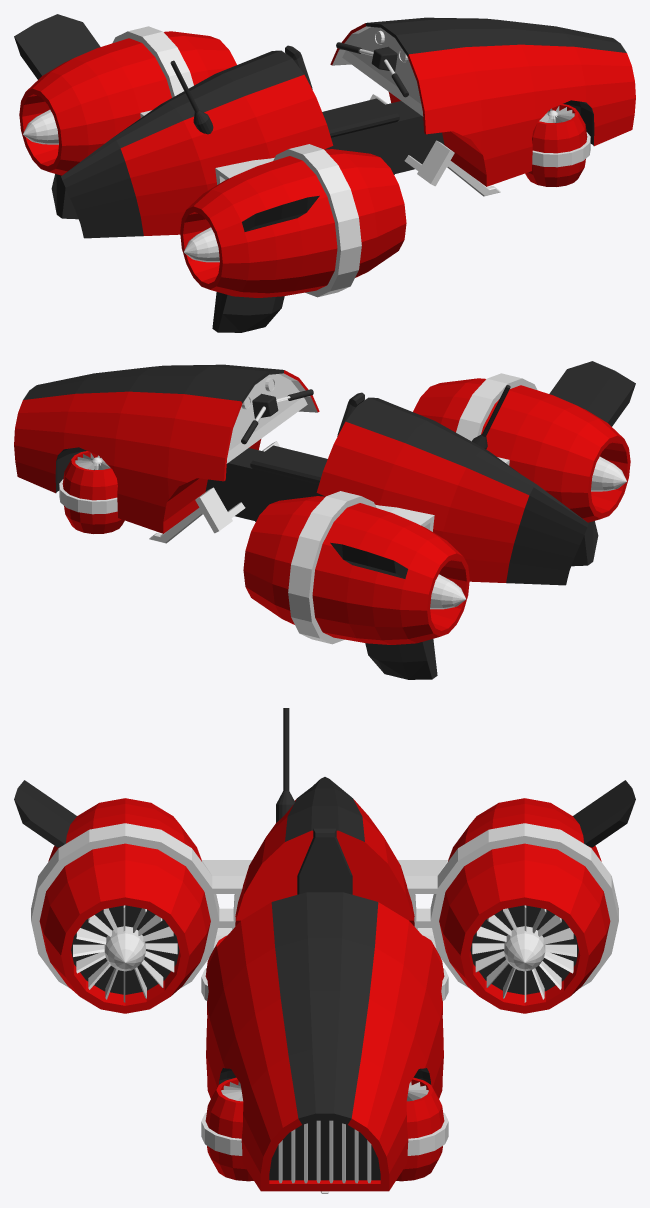
File: Chroma Hoverbike.fbx
3 views of the same model, one above another, from view 1: azimuth 30°, elevation 25°; view 2: azimuth 150°, elevation 25°; view 3: azimuth 270°, elevation 25° (orthographic). The views are drawn at different scales.
Visible parts, largest first — view 1: Body Front and Back, Engine ML, Body Center, Engine FL; view 2: Body Front and Back, Engine ML, Body Center, Engine FL; view 3: Body Front and Back, Engine ML, Engine FL, Body Center.
Boxes of the visible parts, bbox=[...] form: Body Front and Back: bbox=[61, 17, 635, 238]; Engine ML: bbox=[14, 14, 406, 332]; Body Center: bbox=[285, 45, 500, 196]; Engine FL: bbox=[525, 104, 590, 186]; Body Front and Back: bbox=[14, 364, 588, 585]; Engine ML: bbox=[243, 361, 635, 679]; Body Center: bbox=[149, 392, 364, 543]; Engine FL: bbox=[59, 451, 124, 533]; Body Front and Back: bbox=[206, 708, 443, 1191]; Engine ML: bbox=[14, 780, 635, 1013]; Engine FL: bbox=[201, 1077, 448, 1181]; Body Center: bbox=[297, 828, 352, 1193].
Bounding box in the file's own units: 931 × 360 × 726.
